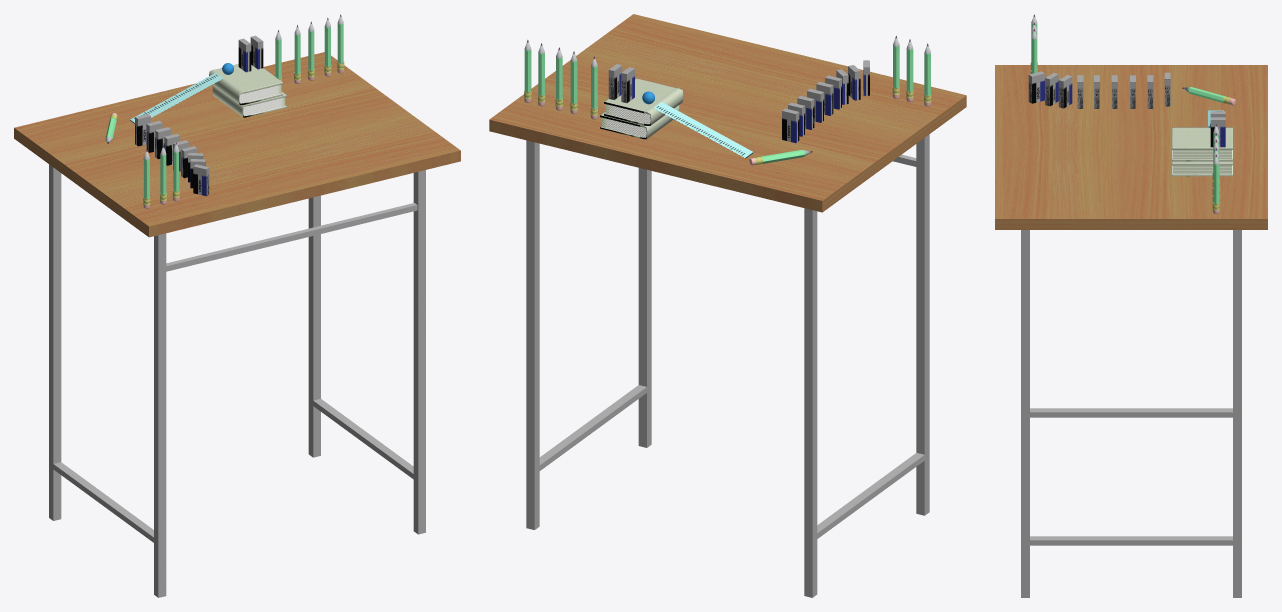
File: slider_on_desk_limes_v5.glb
3 renders of one model, left to right at view 1: azimuth 30°, elevation 25°; view 2: azimuth 150°, elevation 25°; view 3: azimuth 270°, elevation 25°, orthographic. The views are drawn at different scales.
Visible parts, largest first — view 1: desk_top, desk_leg4, desk_leg2, desk_leg3, desk_leg1, desk_bar_top_1to3, book02, desk_bar_bottom_3to4, desk_bar_bottom_1to2, book01, Ruler; view 2: desk_top, desk_leg1, desk_leg3, desk_leg4, desk_leg2, book02, desk_bar_bottom_3to4, desk_bar_bottom_1to2, Ruler, book01; view 3: desk_top, desk_leg1, desk_leg2, desk_bar_bottom_1to2, desk_bar_bottom_3to4, book02, book01, eraser11, eraser09, eraser10, Dwarf_Pencil01, Dwarf_Pencil06 (+1 smaller).
Boxes of the visible parts, box(x1,y1,x2,y2) form: desk_top: box(14, 52, 460, 237); desk_leg4: box(154, 233, 166, 597); desk_leg2: box(413, 170, 425, 534); desk_leg3: box(49, 164, 61, 520); desk_leg1: box(308, 195, 320, 457); desk_bar_top_1to3: box(166, 203, 417, 271); book02: box(209, 64, 282, 104); desk_bar_bottom_3to4: box(52, 462, 156, 544); desk_bar_bottom_1to2: box(311, 399, 413, 479); book01: box(212, 86, 286, 117); Ruler: box(130, 73, 223, 123); desk_top: box(489, 14, 966, 212); desk_leg1: box(526, 140, 539, 529); desk_leg3: box(804, 208, 817, 597); desk_leg4: box(916, 134, 929, 515); desk_leg2: box(638, 168, 651, 447); book02: box(604, 78, 683, 125); desk_bar_bottom_3to4: box(815, 453, 927, 540); desk_bar_bottom_1to2: box(537, 385, 649, 472); Ruler: box(653, 102, 753, 158); book01: box(600, 105, 679, 139); desk_top: box(995, 65, 1267, 229); desk_leg1: box(1233, 230, 1241, 597); desk_leg2: box(1021, 230, 1029, 597); desk_bar_bottom_1to2: box(1027, 536, 1234, 545); desk_bar_bottom_3to4: box(1030, 408, 1232, 417); book02: box(1172, 127, 1232, 161); book01: box(1172, 161, 1232, 176); eraser11: box(1028, 71, 1044, 103); eraser09: box(1058, 75, 1072, 108); eraser10: box(1045, 72, 1058, 106); Dwarf_Pencil01: box(1212, 154, 1219, 213); Dwarf_Pencil06: box(1182, 87, 1236, 105).
Size of the model in its own units: 12 by 16.37 by 9.
17 materials, 15 textured.
